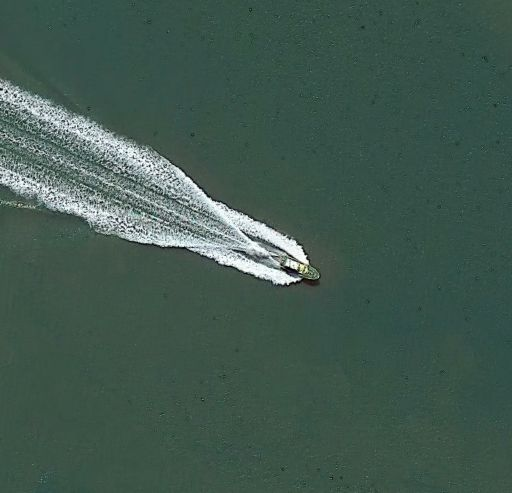boat: (277, 254, 323, 284)
